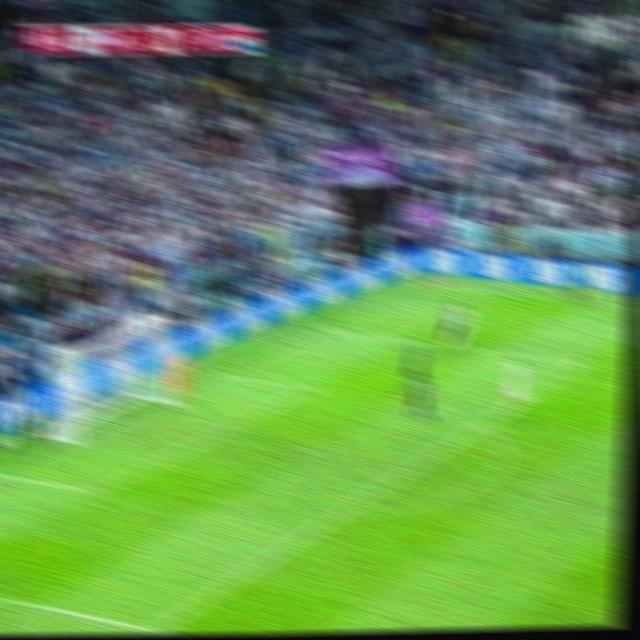bigarea_bottom_inner: (142, 616, 172, 635)
bigarea_top_inner: (568, 353, 595, 377)
bigarea_top_outter: (316, 321, 337, 340)
bottom_arc_area_intersection: (321, 502, 352, 528)
corner: (419, 279, 440, 290)
smallarea_bottom_inner: (83, 478, 114, 505)
smallarea_bottom_outter: (0, 465, 13, 482)
smallarea_top_inner: (295, 378, 321, 398)
smallarea_top_outter: (215, 365, 236, 385)
top_arc_area_intersection: (470, 412, 494, 437)
